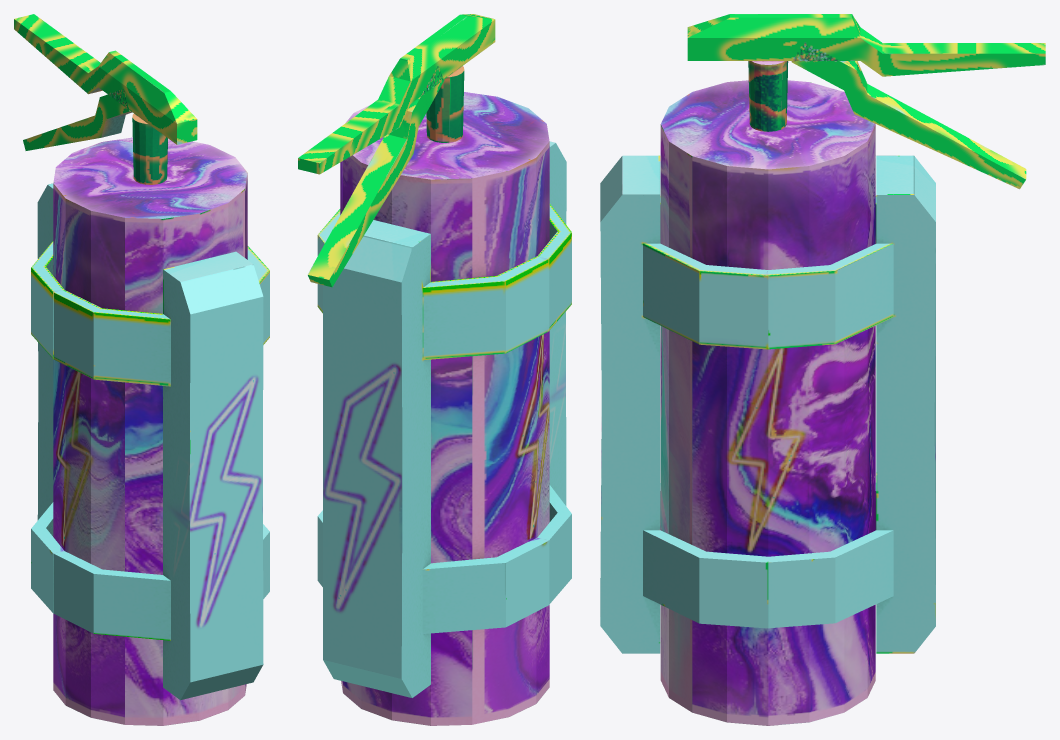
File: NitroCylinder.fbx
The picture shows the model from 3 angles, left to right: view 1: azimuth 30°, elevation 25°; view 2: azimuth 150°, elevation 25°; view 3: azimuth 270°, elevation 25°; orthographic projection. The views are drawn at different scales.
Parts seen in each view (by area): view 1: Nitro_LOD0; view 2: Nitro_LOD0; view 3: Nitro_LOD0.
Boxes of the visible parts, x1,y1,x2,y2 form: Nitro_LOD0: [14, 14, 269, 725]; Nitro_LOD0: [298, 14, 571, 725]; Nitro_LOD0: [600, 14, 1045, 725].
Size of what is drawn, in the model's own units: 65.35 by 195 by 118.
1 material, 1 textured.
